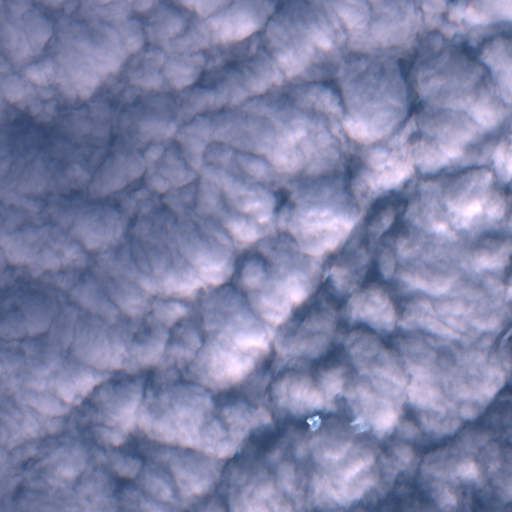Iceberg: (350, 416, 369, 432), (306, 415, 320, 430)
